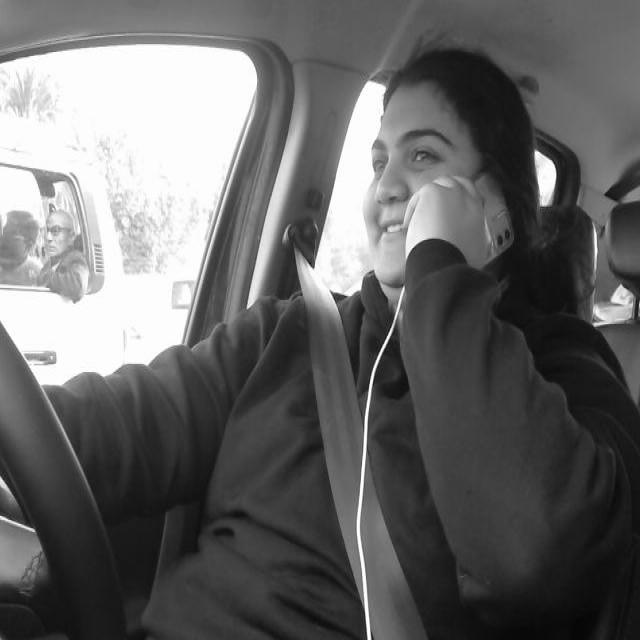mobile use: (423, 172, 522, 279)
